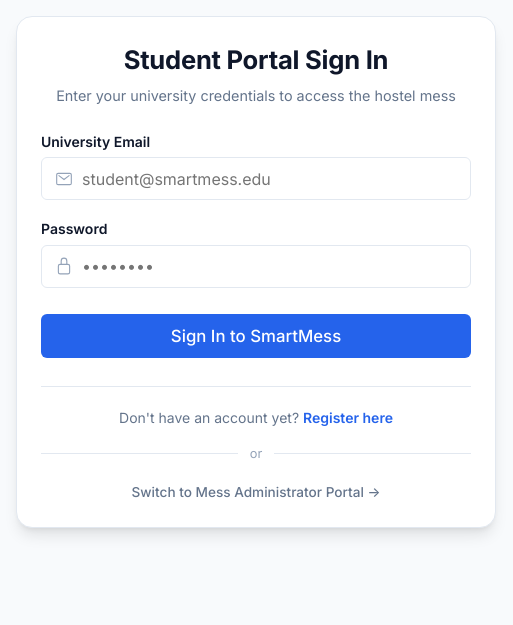
Scenario: Login Page Tests › TC-FE-LOGIN-02: displays error alert when login fails
The width and height of the screenshot is (513, 625).
Type "wrong@smartmess.edu" into the field with test id "email-input". click: (256, 179)
box: 41,157 -> 471,200
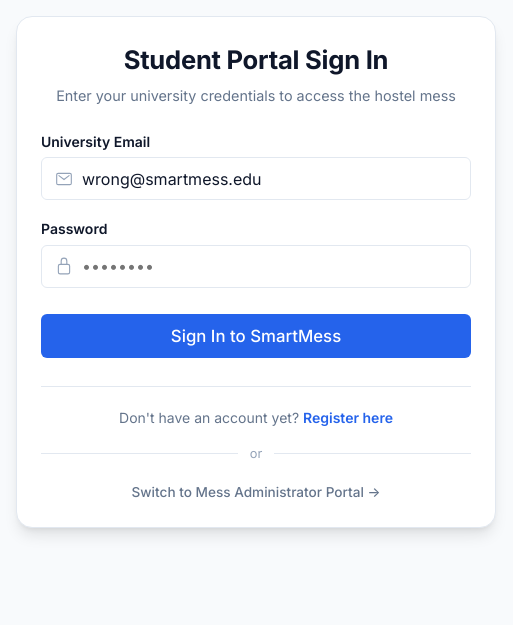
Type "badpass" into the password field with test id "password-input". click: (256, 266)
box: 41,245 -> 471,288
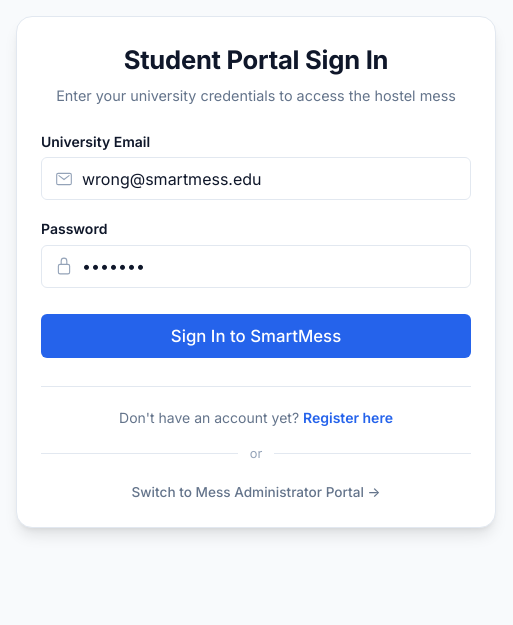
Click the button with test id "login-submit-button". click: click(256, 336)
box: 41,314 -> 471,358
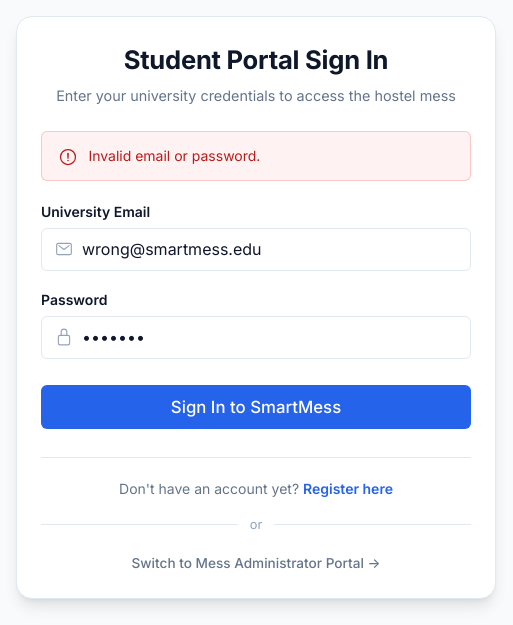
Expected: the message "Invalid email or password." is shown, 41,131 -> 471,181
Expected: the text "Invalid email or password." is shown, 88,145 -> 260,166
